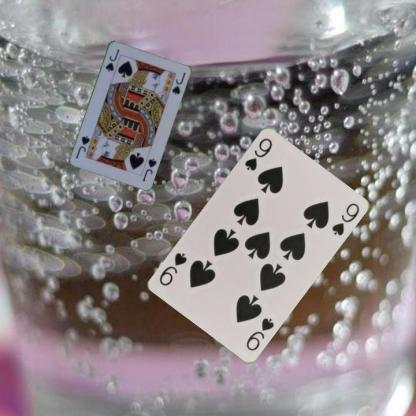9s: (243, 314, 276, 352), (242, 135, 274, 172)
Js: (103, 46, 122, 77), (140, 156, 158, 182)
